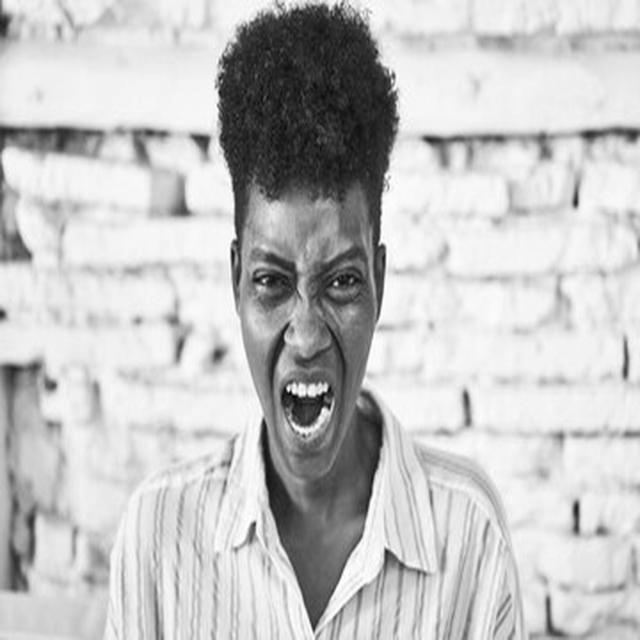Angry: (238, 186, 377, 478)
